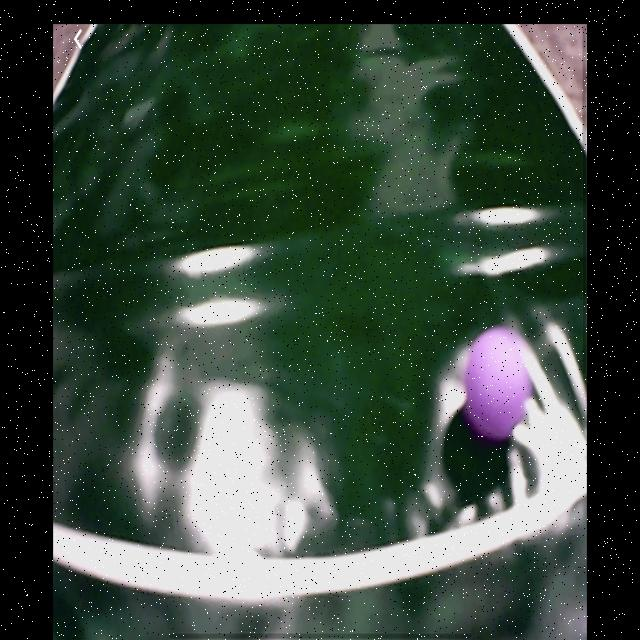ball: (463, 325, 535, 443)
